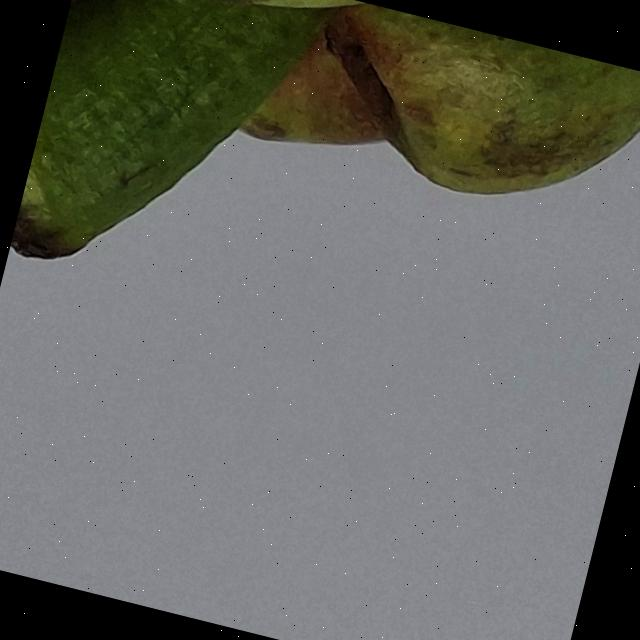mangosteen: (0, 0, 640, 460)
